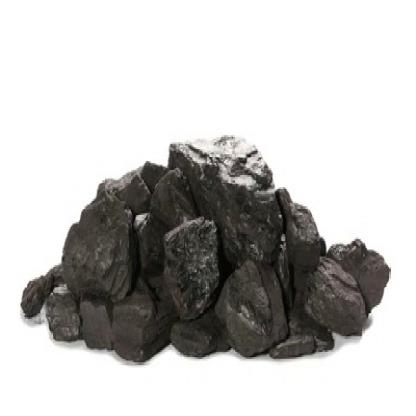Sedimentary_coal: (147, 134, 287, 278), (56, 193, 147, 298), (160, 215, 218, 321), (300, 258, 372, 336)
